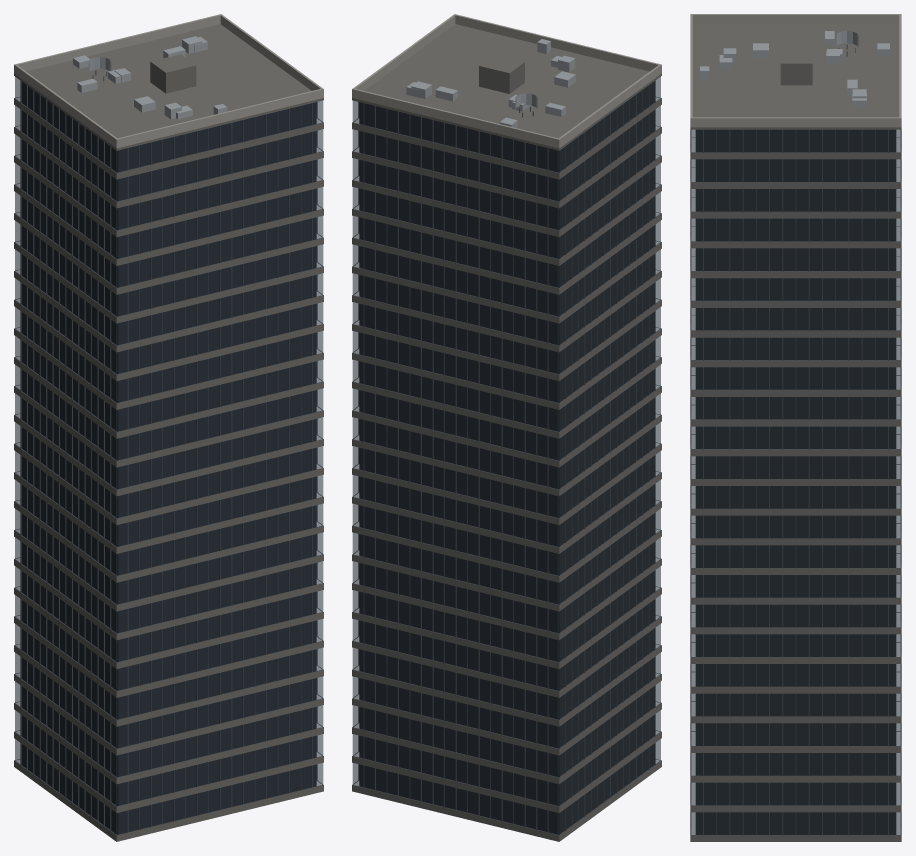
File: tower-3.glb
3 views of the same model, side by side, from view 1: azimuth 30°, elevation 25°; view 2: azimuth 150°, elevation 25°; view 3: azimuth 270°, elevation 25° (orthographic). The views are drawn at different scales.
Visible parts, largest first — view 1: tower-3; view 2: tower-3; view 3: tower-3.
Boxes of the visible parts, x1,y1,x2,y2 form: tower-3: (14, 14, 323, 841); tower-3: (352, 14, 661, 841); tower-3: (690, 14, 901, 841).
Bounding box in the file's own units: 27.12 × 89.3 × 23.25.
